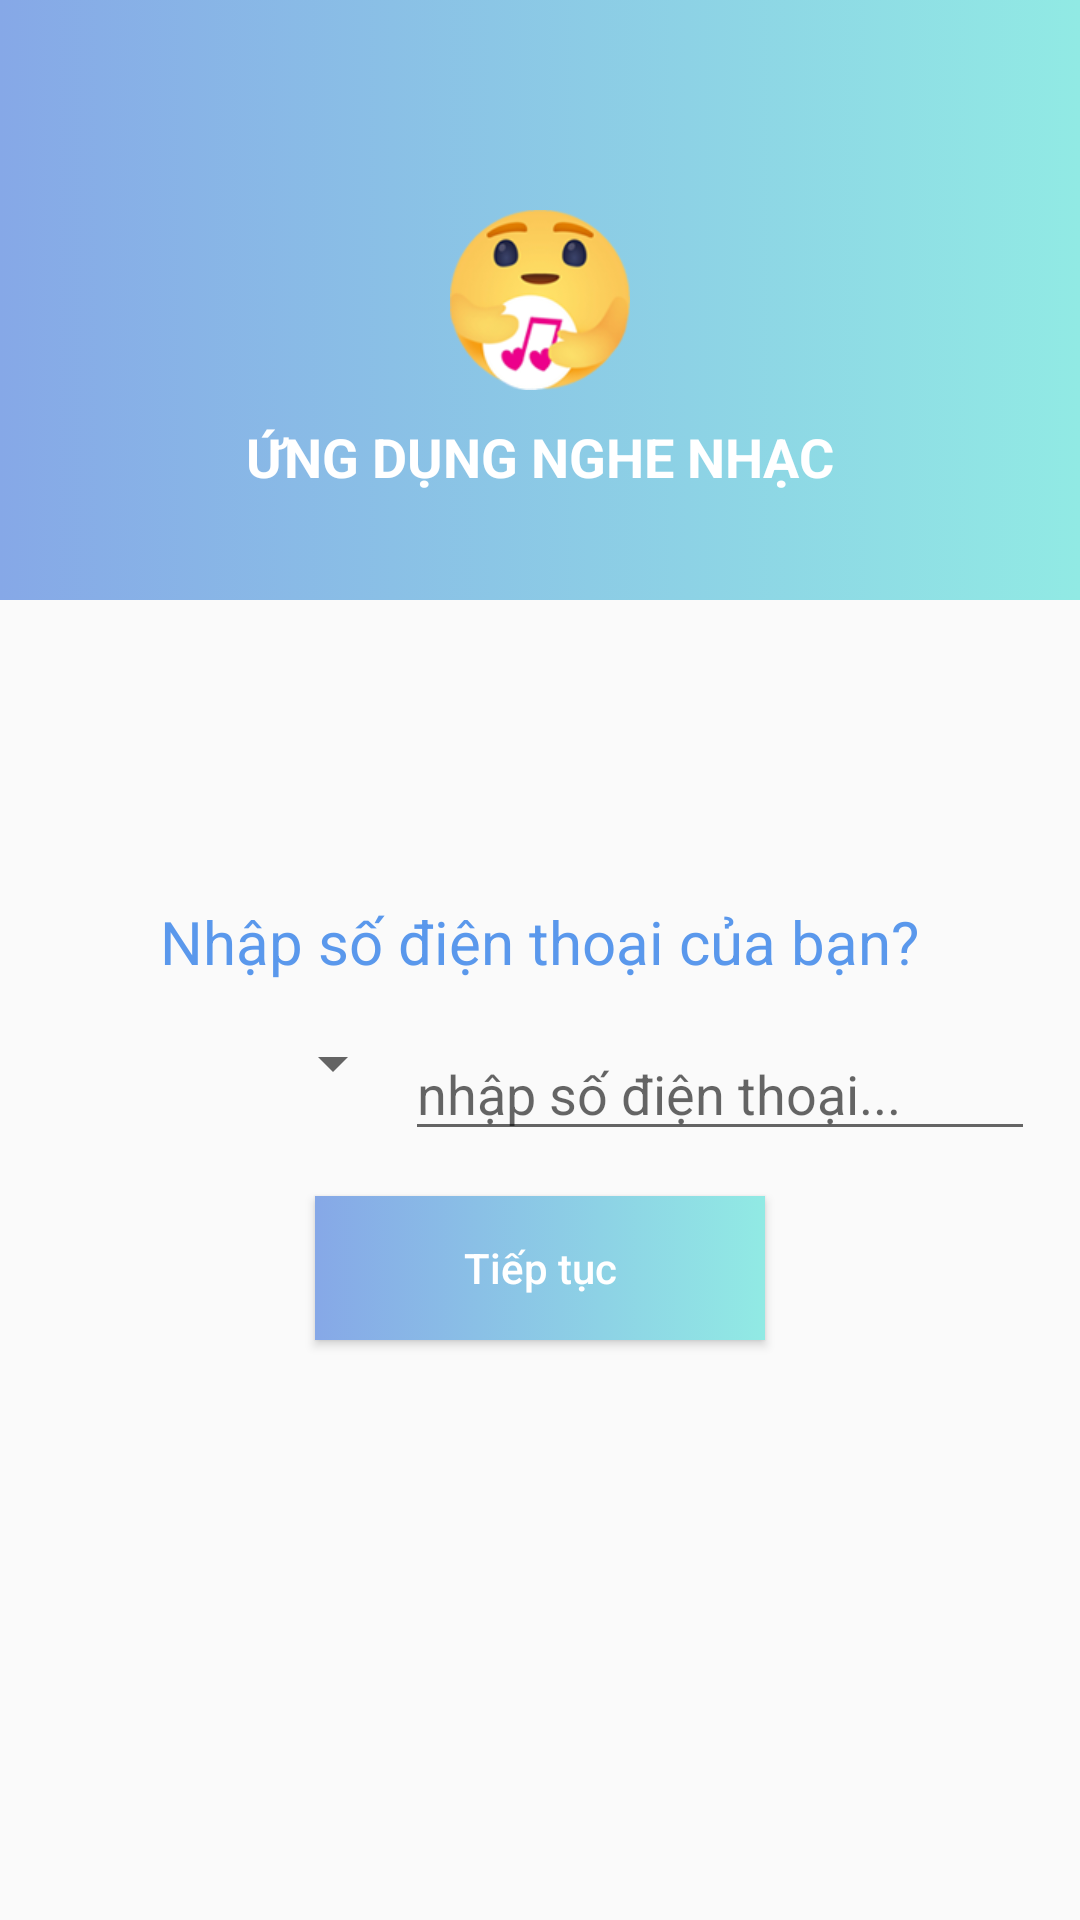

Screen size 1080w x 1920h. Icon name, then its center in pixels as (x=x, y=y):
thuongthuong: (x=540, y=300)
